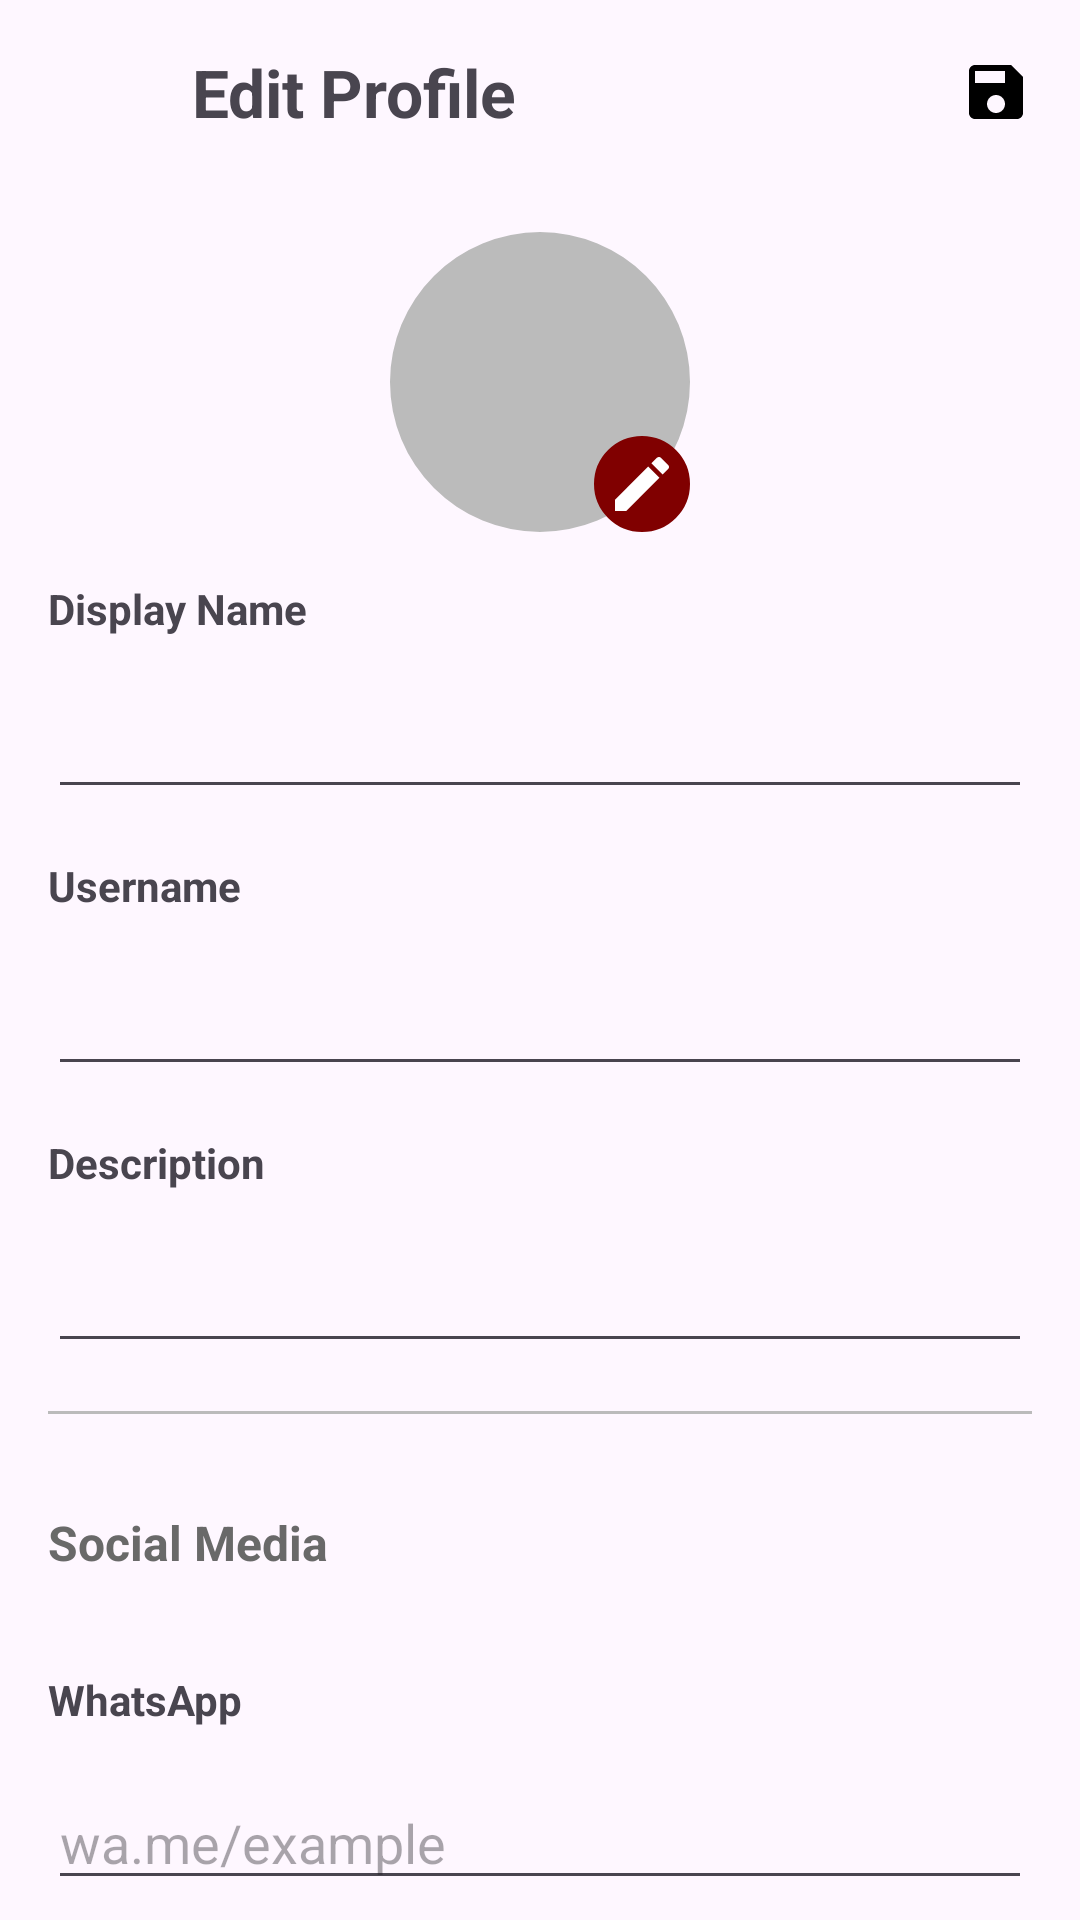

Screen size 1080 x 1920. Icon name, then its center in pixels as point (x, y):
edit pp: point (642, 484)
save: point (996, 92)
